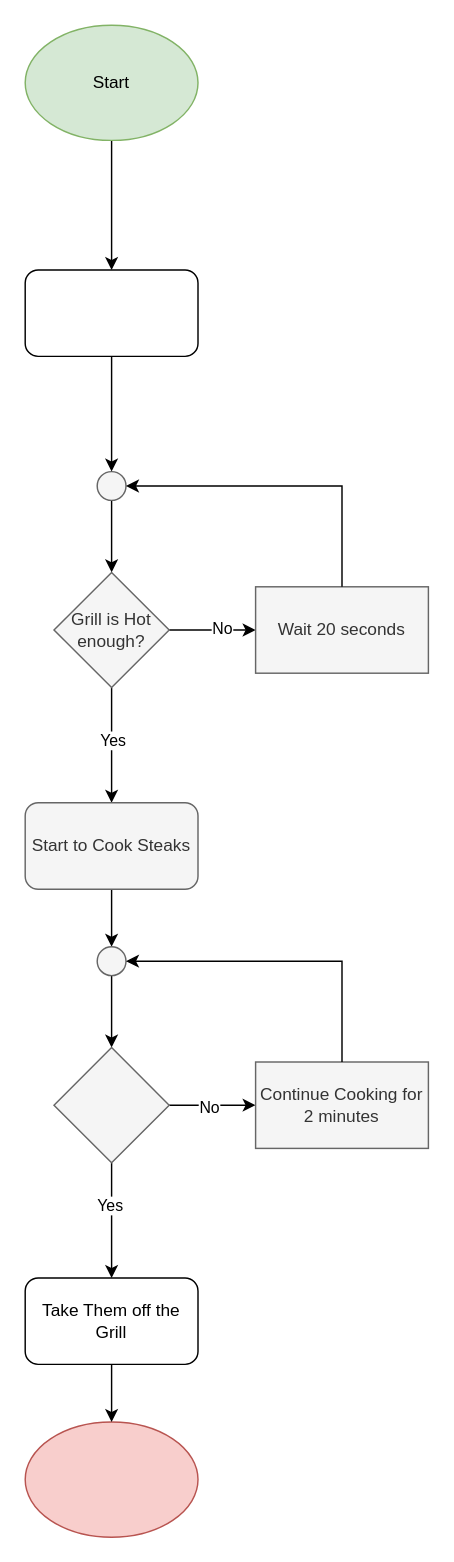
Some shapes in this 454 by 1562 pixel diagram are drawn without their labels. The shapes that lost their labels are listed below. From the top down, each one's centre as x and y in pixels, then its label:
At (x=111, y=312): "Turn on Grill".
At (x=111, y=1104): "Steaks are Temp".
At (x=111, y=1479): "End".
